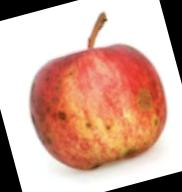Apple: (27, 44, 164, 168)
